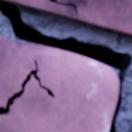brick: (0, 36, 118, 131), (4, 0, 131, 35)
crack: (0, 0, 131, 131), (0, 60, 54, 114), (49, 0, 77, 16)
